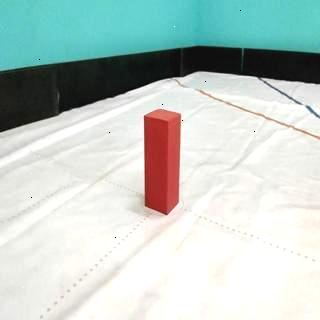redbox: (143, 107, 181, 217)
